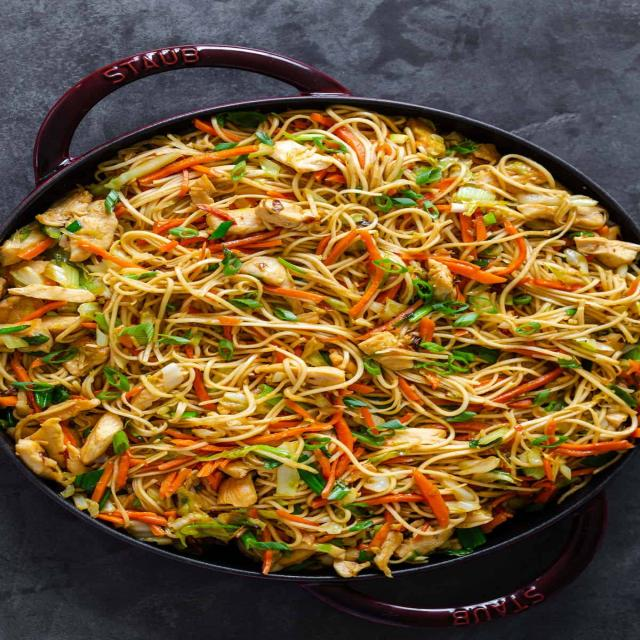Noodle: (5, 101, 640, 577)
